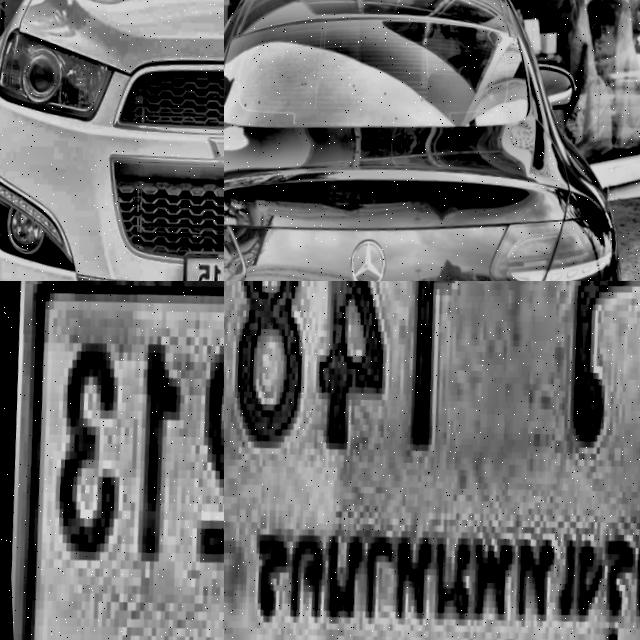license-plate: (224, 281, 640, 640), (0, 281, 224, 640)
